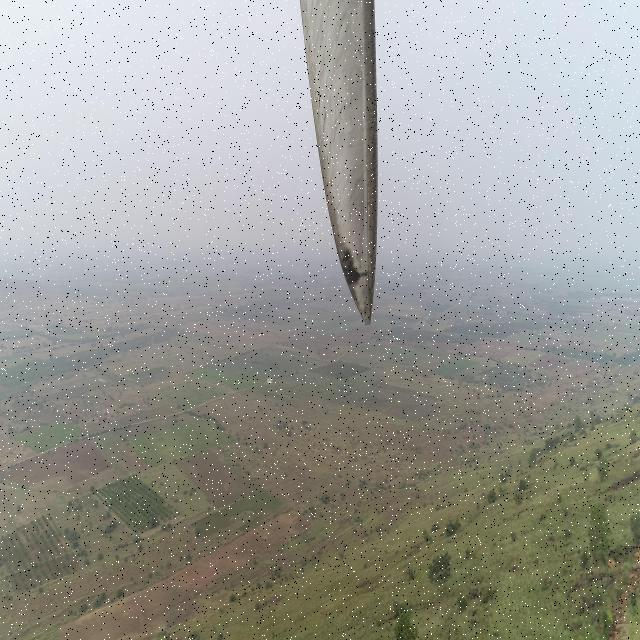Dirt: (300, 0, 377, 326)
Oil LEAKAGE: (338, 246, 375, 309)
